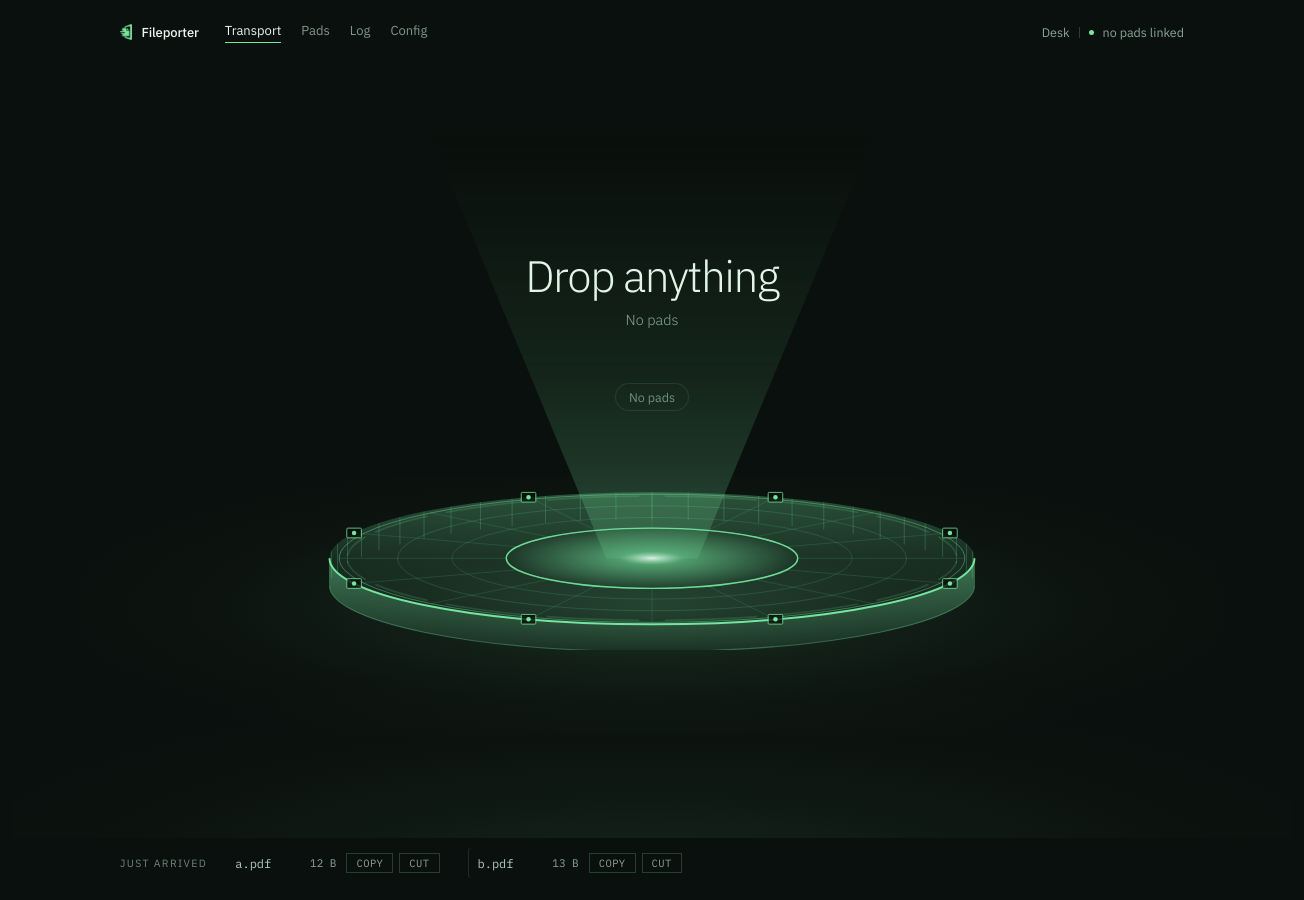
it: acts on a whole arrival with its batch id and reports the outcome accessibly
This screenshot has width=1304, height=900.
Click the button "Log". click: coordinates (360, 32)
box: left=350, top=22, right=370, bottom=42
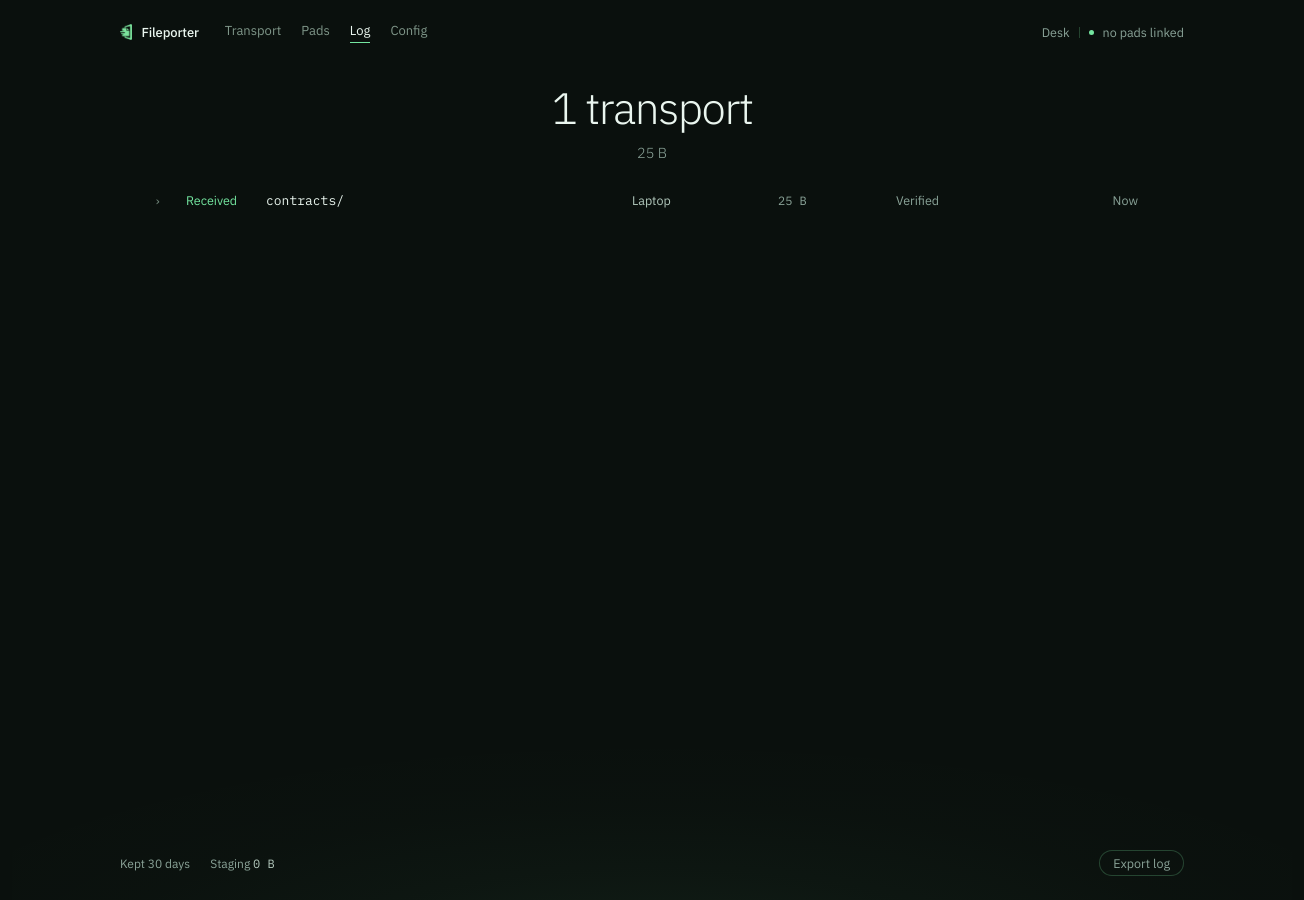
Click the button "› Received contracts/ Laptop 25 B Verified Now". click: coordinates (646, 200)
box: left=142, top=184, right=1150, bottom=216
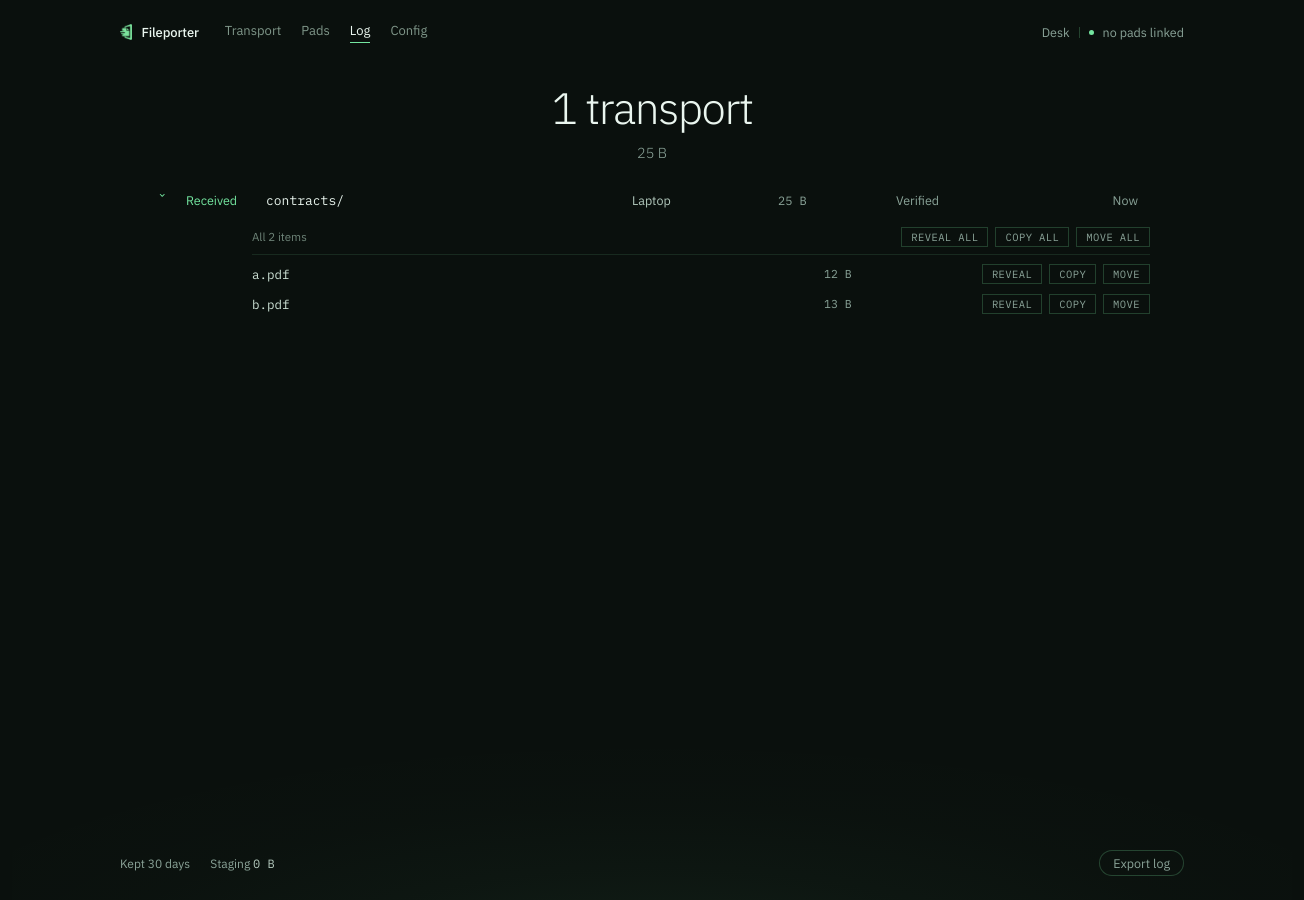
Click the button "MOVE ALL". click: coordinates (1113, 236)
box: left=1076, top=226, right=1150, bottom=246
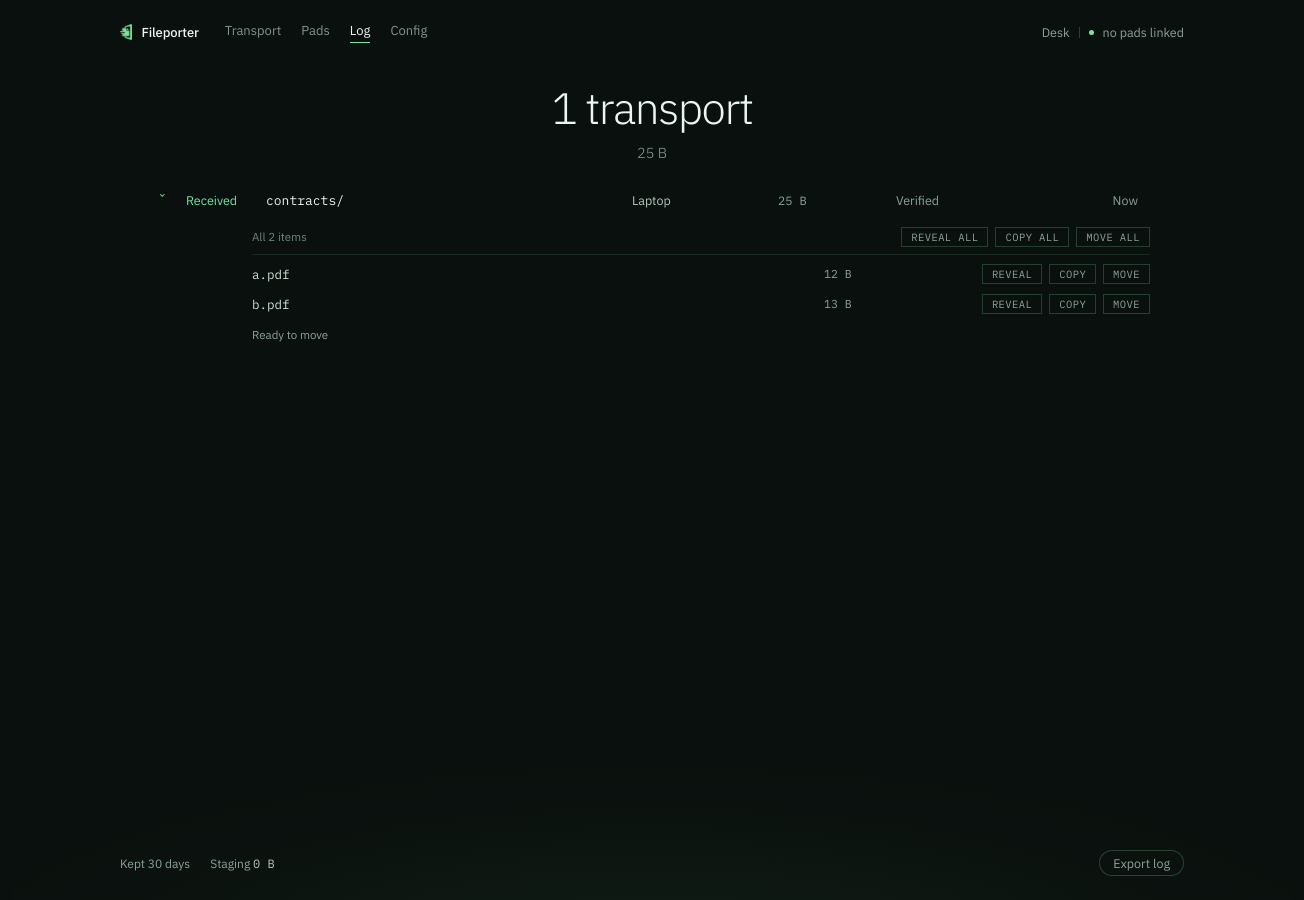
expect the text "Ready to move" is shown: met, box left=252, top=326, right=328, bottom=342
